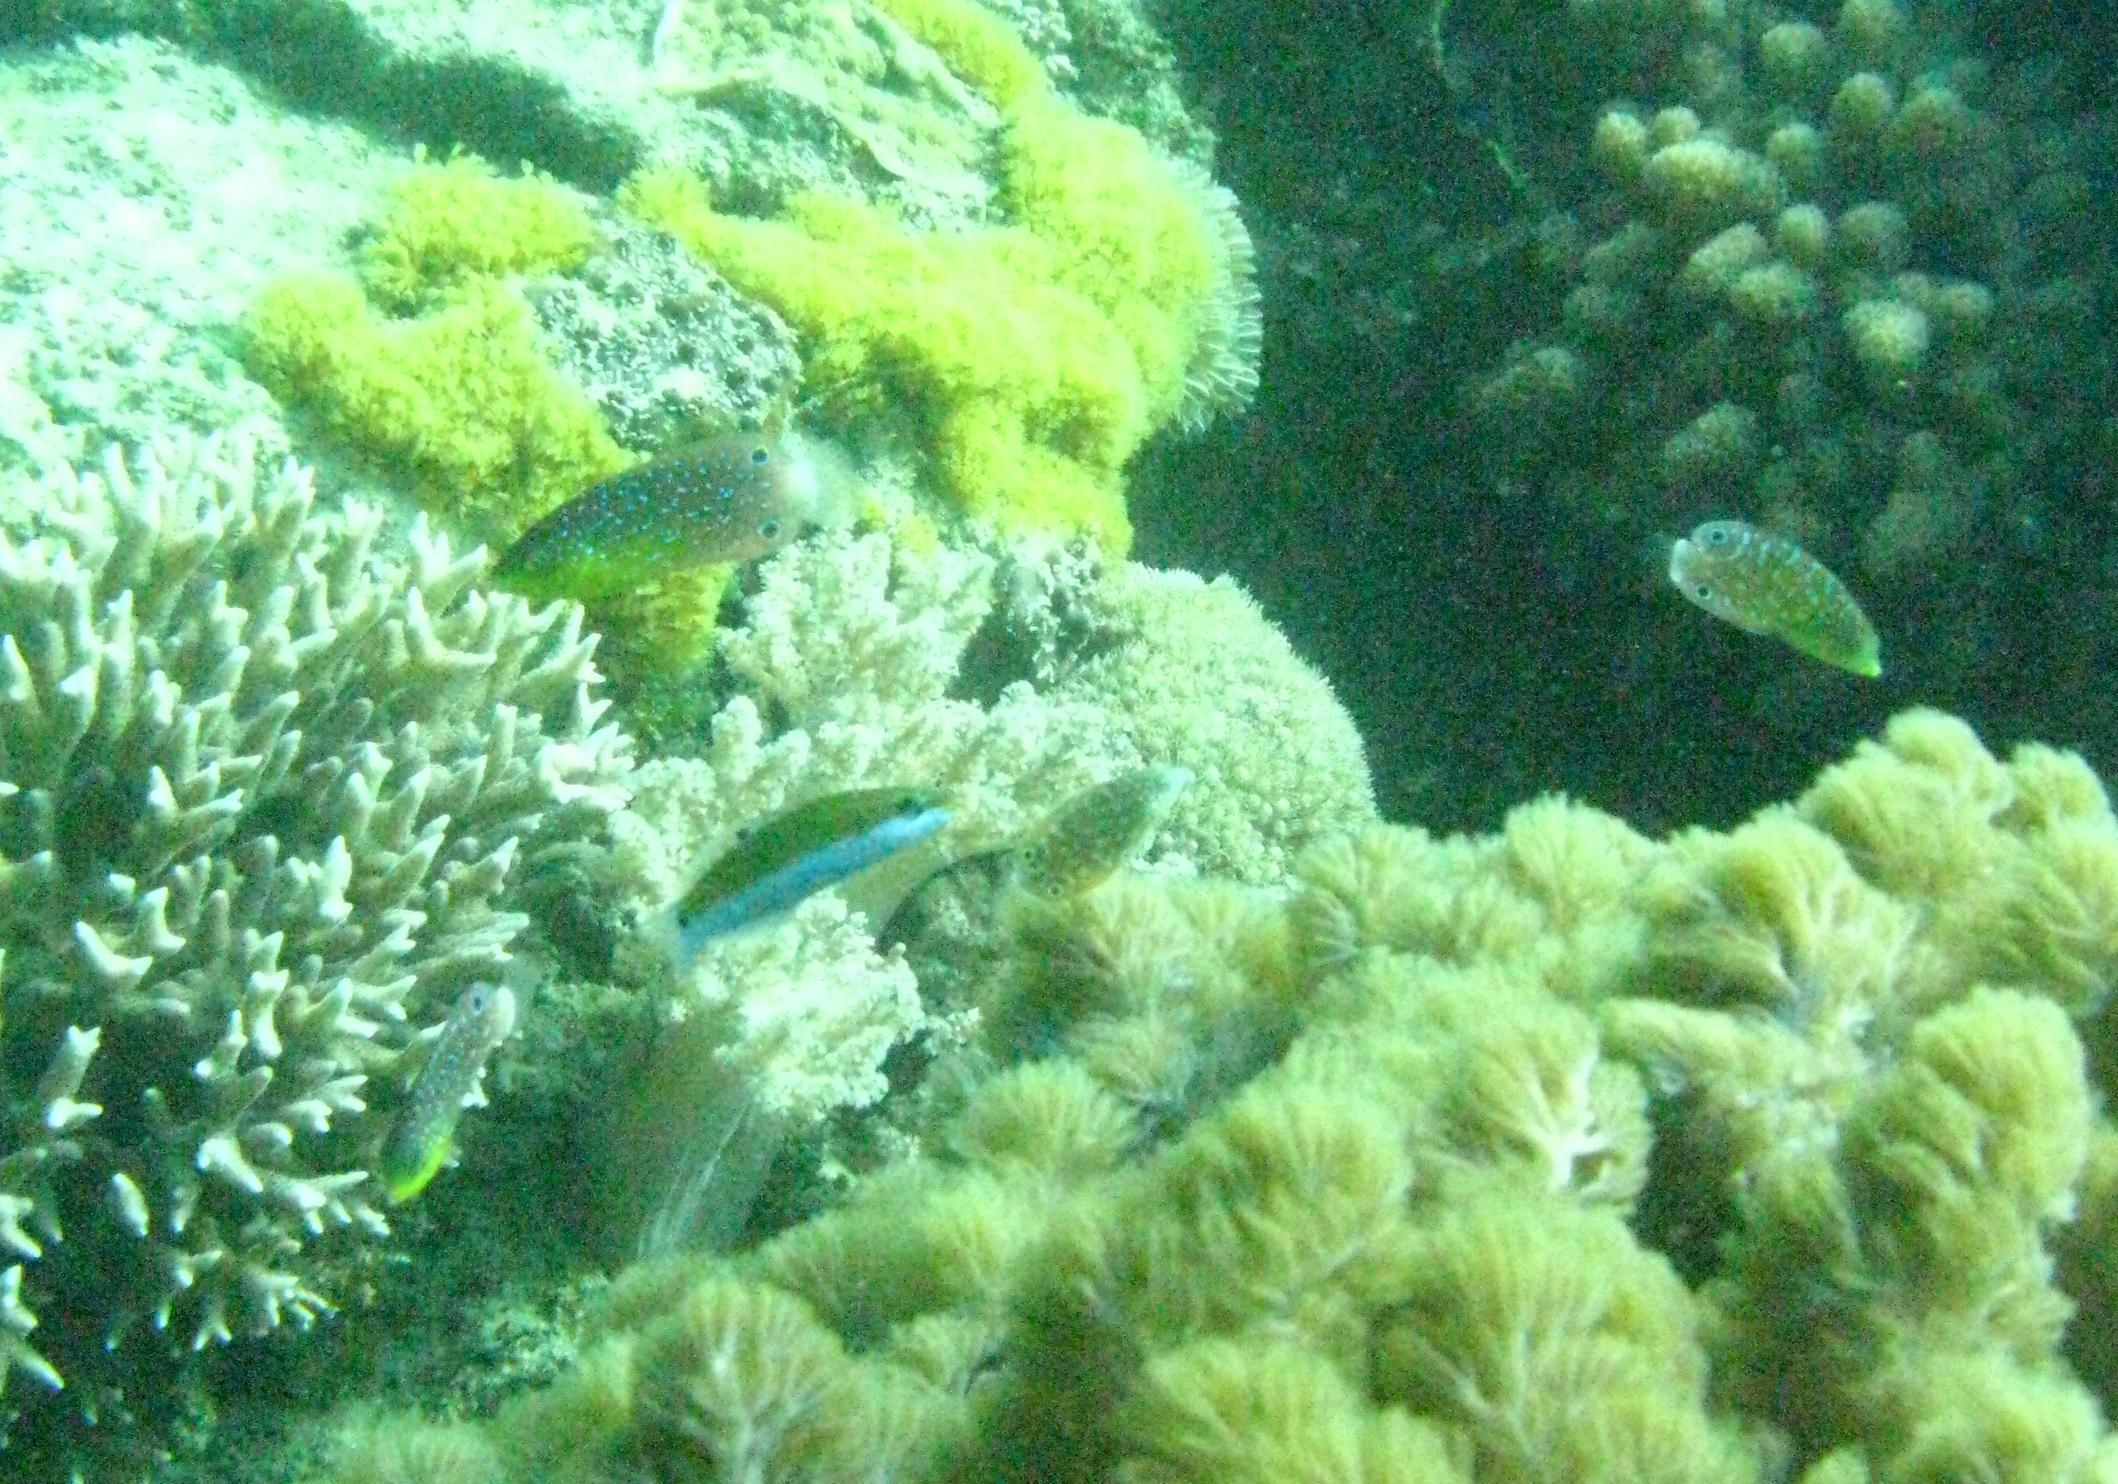Fish: (396, 393, 864, 631), (328, 934, 542, 1235), (1621, 470, 1898, 695), (988, 718, 1201, 945)
